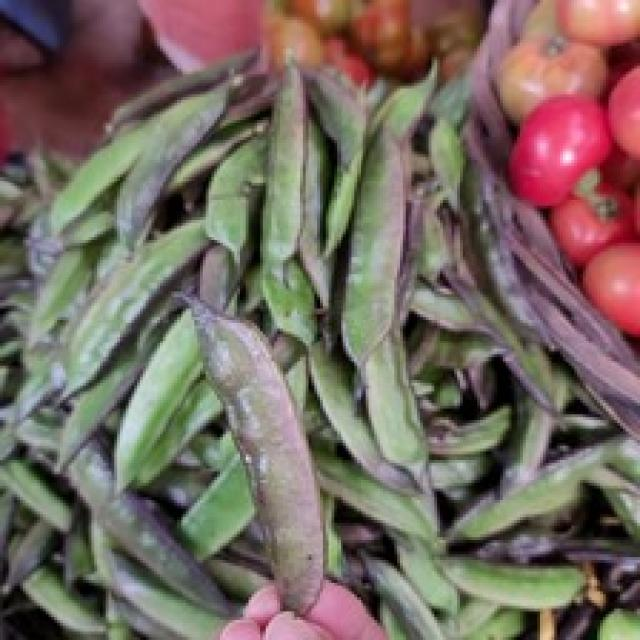Bean: (88, 57, 530, 624), (179, 288, 334, 606)
